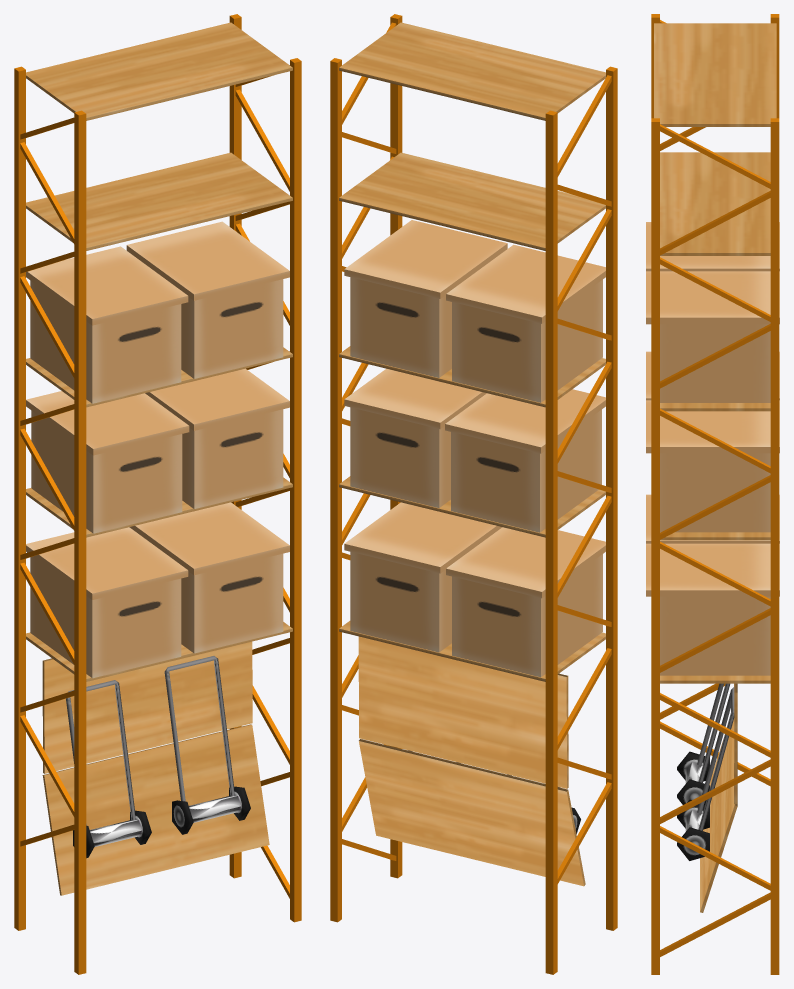
The model's file is Push_Mower_Rack.fbx.
3 renders of one model, left to right at view 1: azimuth 30°, elevation 25°; view 2: azimuth 150°, elevation 25°; view 3: azimuth 270°, elevation 25°, orthographic.
Parts seen in each view (by area): view 1: Push_Mower_Rack; view 2: Push_Mower_Rack; view 3: Push_Mower_Rack.
Boxes of the visible parts, x1,y1,x2,y2 form: Push_Mower_Rack: [14, 14, 301, 974]; Push_Mower_Rack: [330, 14, 617, 974]; Push_Mower_Rack: [646, 14, 779, 974].
Size of the model in its own units: 2 by 7.37 by 1.05.
